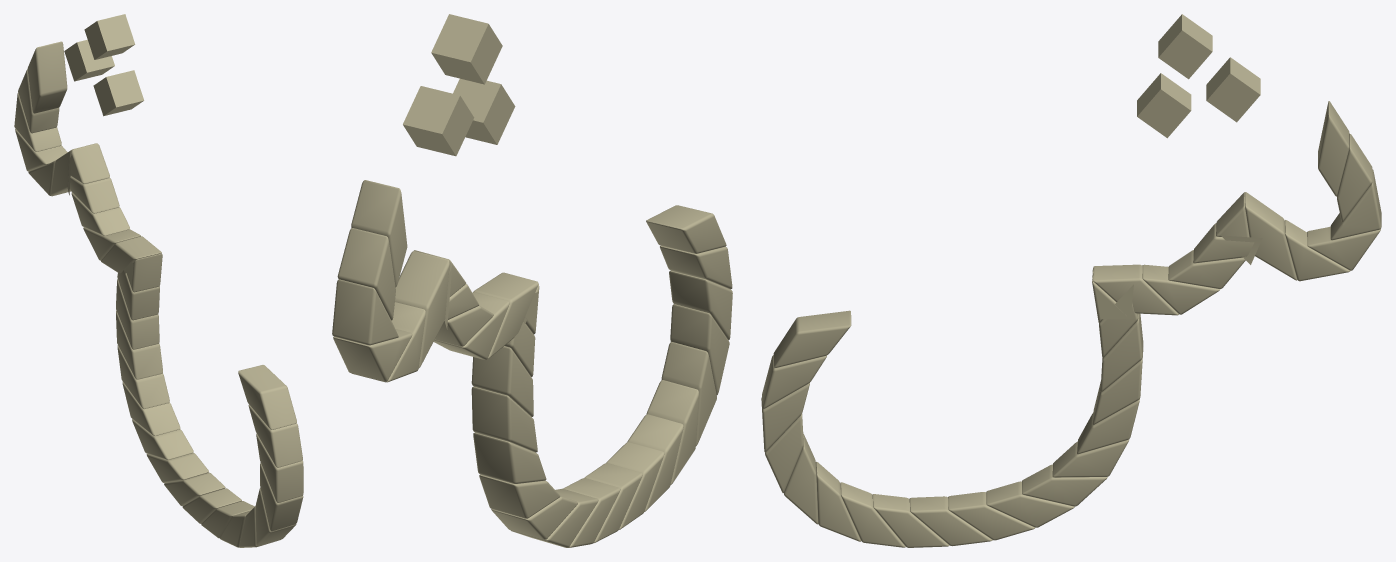
File: syin.fbx
3 renders of one model, left to right at view 1: azimuth 30°, elevation 25°; view 2: azimuth 150°, elevation 25°; view 3: azimuth 270°, elevation 25°, orthographic. The views are drawn at different scales.
Parts seen in each view (by area): view 1: Cube, Cube.002, Cube.003, Cube.001; view 2: Cube, Cube.003, Cube.001, Cube.002; view 3: Cube, Cube.002, Cube.001, Cube.003.
Boxes of the visible parts, bbox=[...] form: Cube: bbox=[14, 41, 303, 547]; Cube.002: bbox=[93, 70, 144, 116]; Cube.003: bbox=[84, 14, 135, 59]; Cube.001: bbox=[64, 39, 114, 81]; Cube: bbox=[332, 180, 732, 547]; Cube.003: bbox=[431, 14, 502, 84]; Cube.001: bbox=[403, 86, 474, 156]; Cube.002: bbox=[453, 78, 515, 144]; Cube: bbox=[761, 101, 1381, 547]; Cube.002: bbox=[1137, 73, 1191, 138]; Cube.001: bbox=[1206, 57, 1260, 122]; Cube.003: bbox=[1158, 14, 1212, 79].
Size of the model in its own units: 71.34 by 886 by 963.
